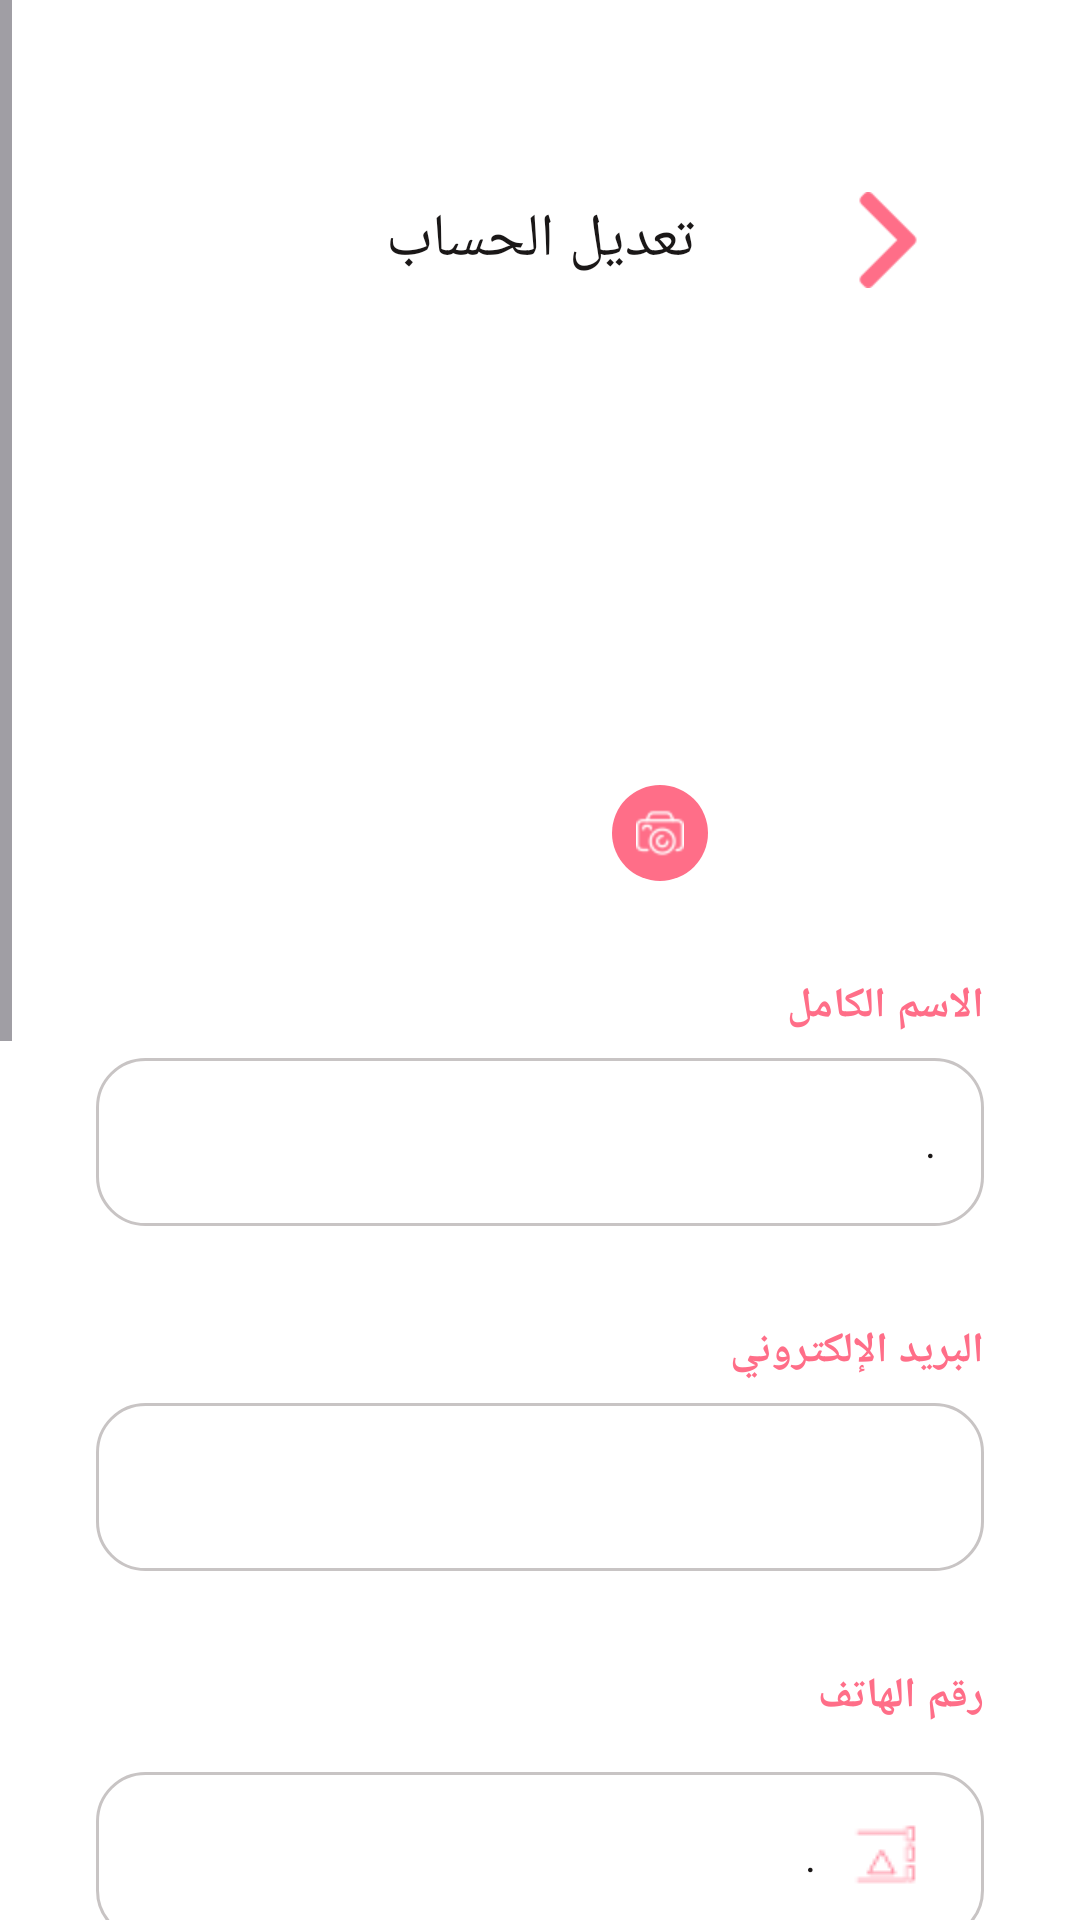

Named icons in this screenshot (1080×1920) and their bounding boxes, (x1, y1, x2, y2):
camera: (612, 785, 708, 881)
rightarrow: (859, 192, 917, 288)
